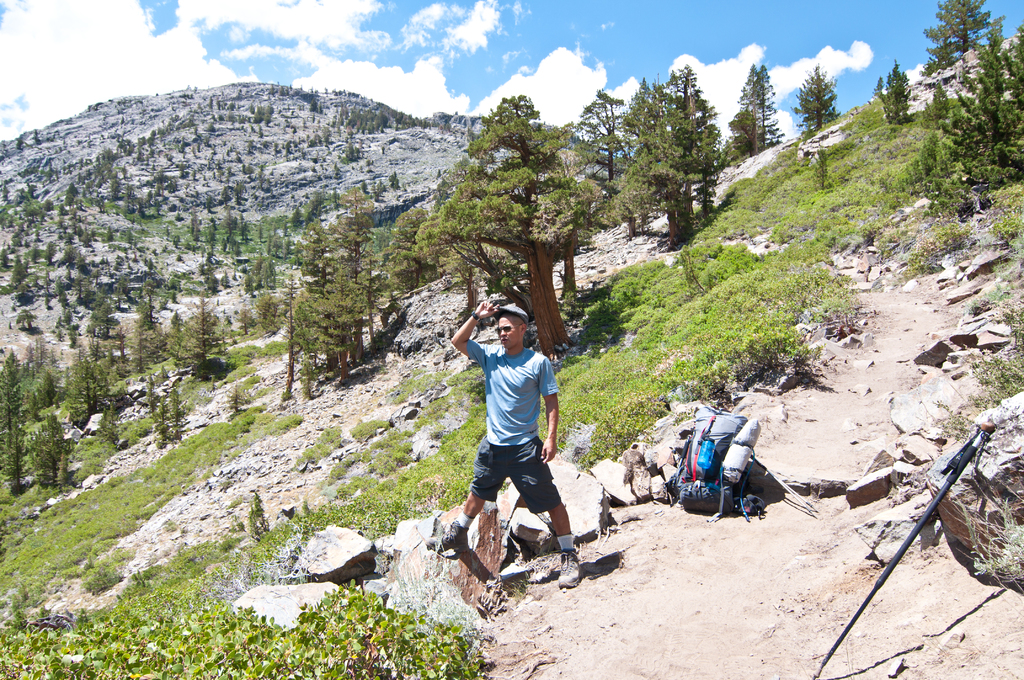Tree: (0, 66, 777, 493), (931, 6, 1013, 208), (793, 58, 843, 133), (873, 62, 911, 123)
